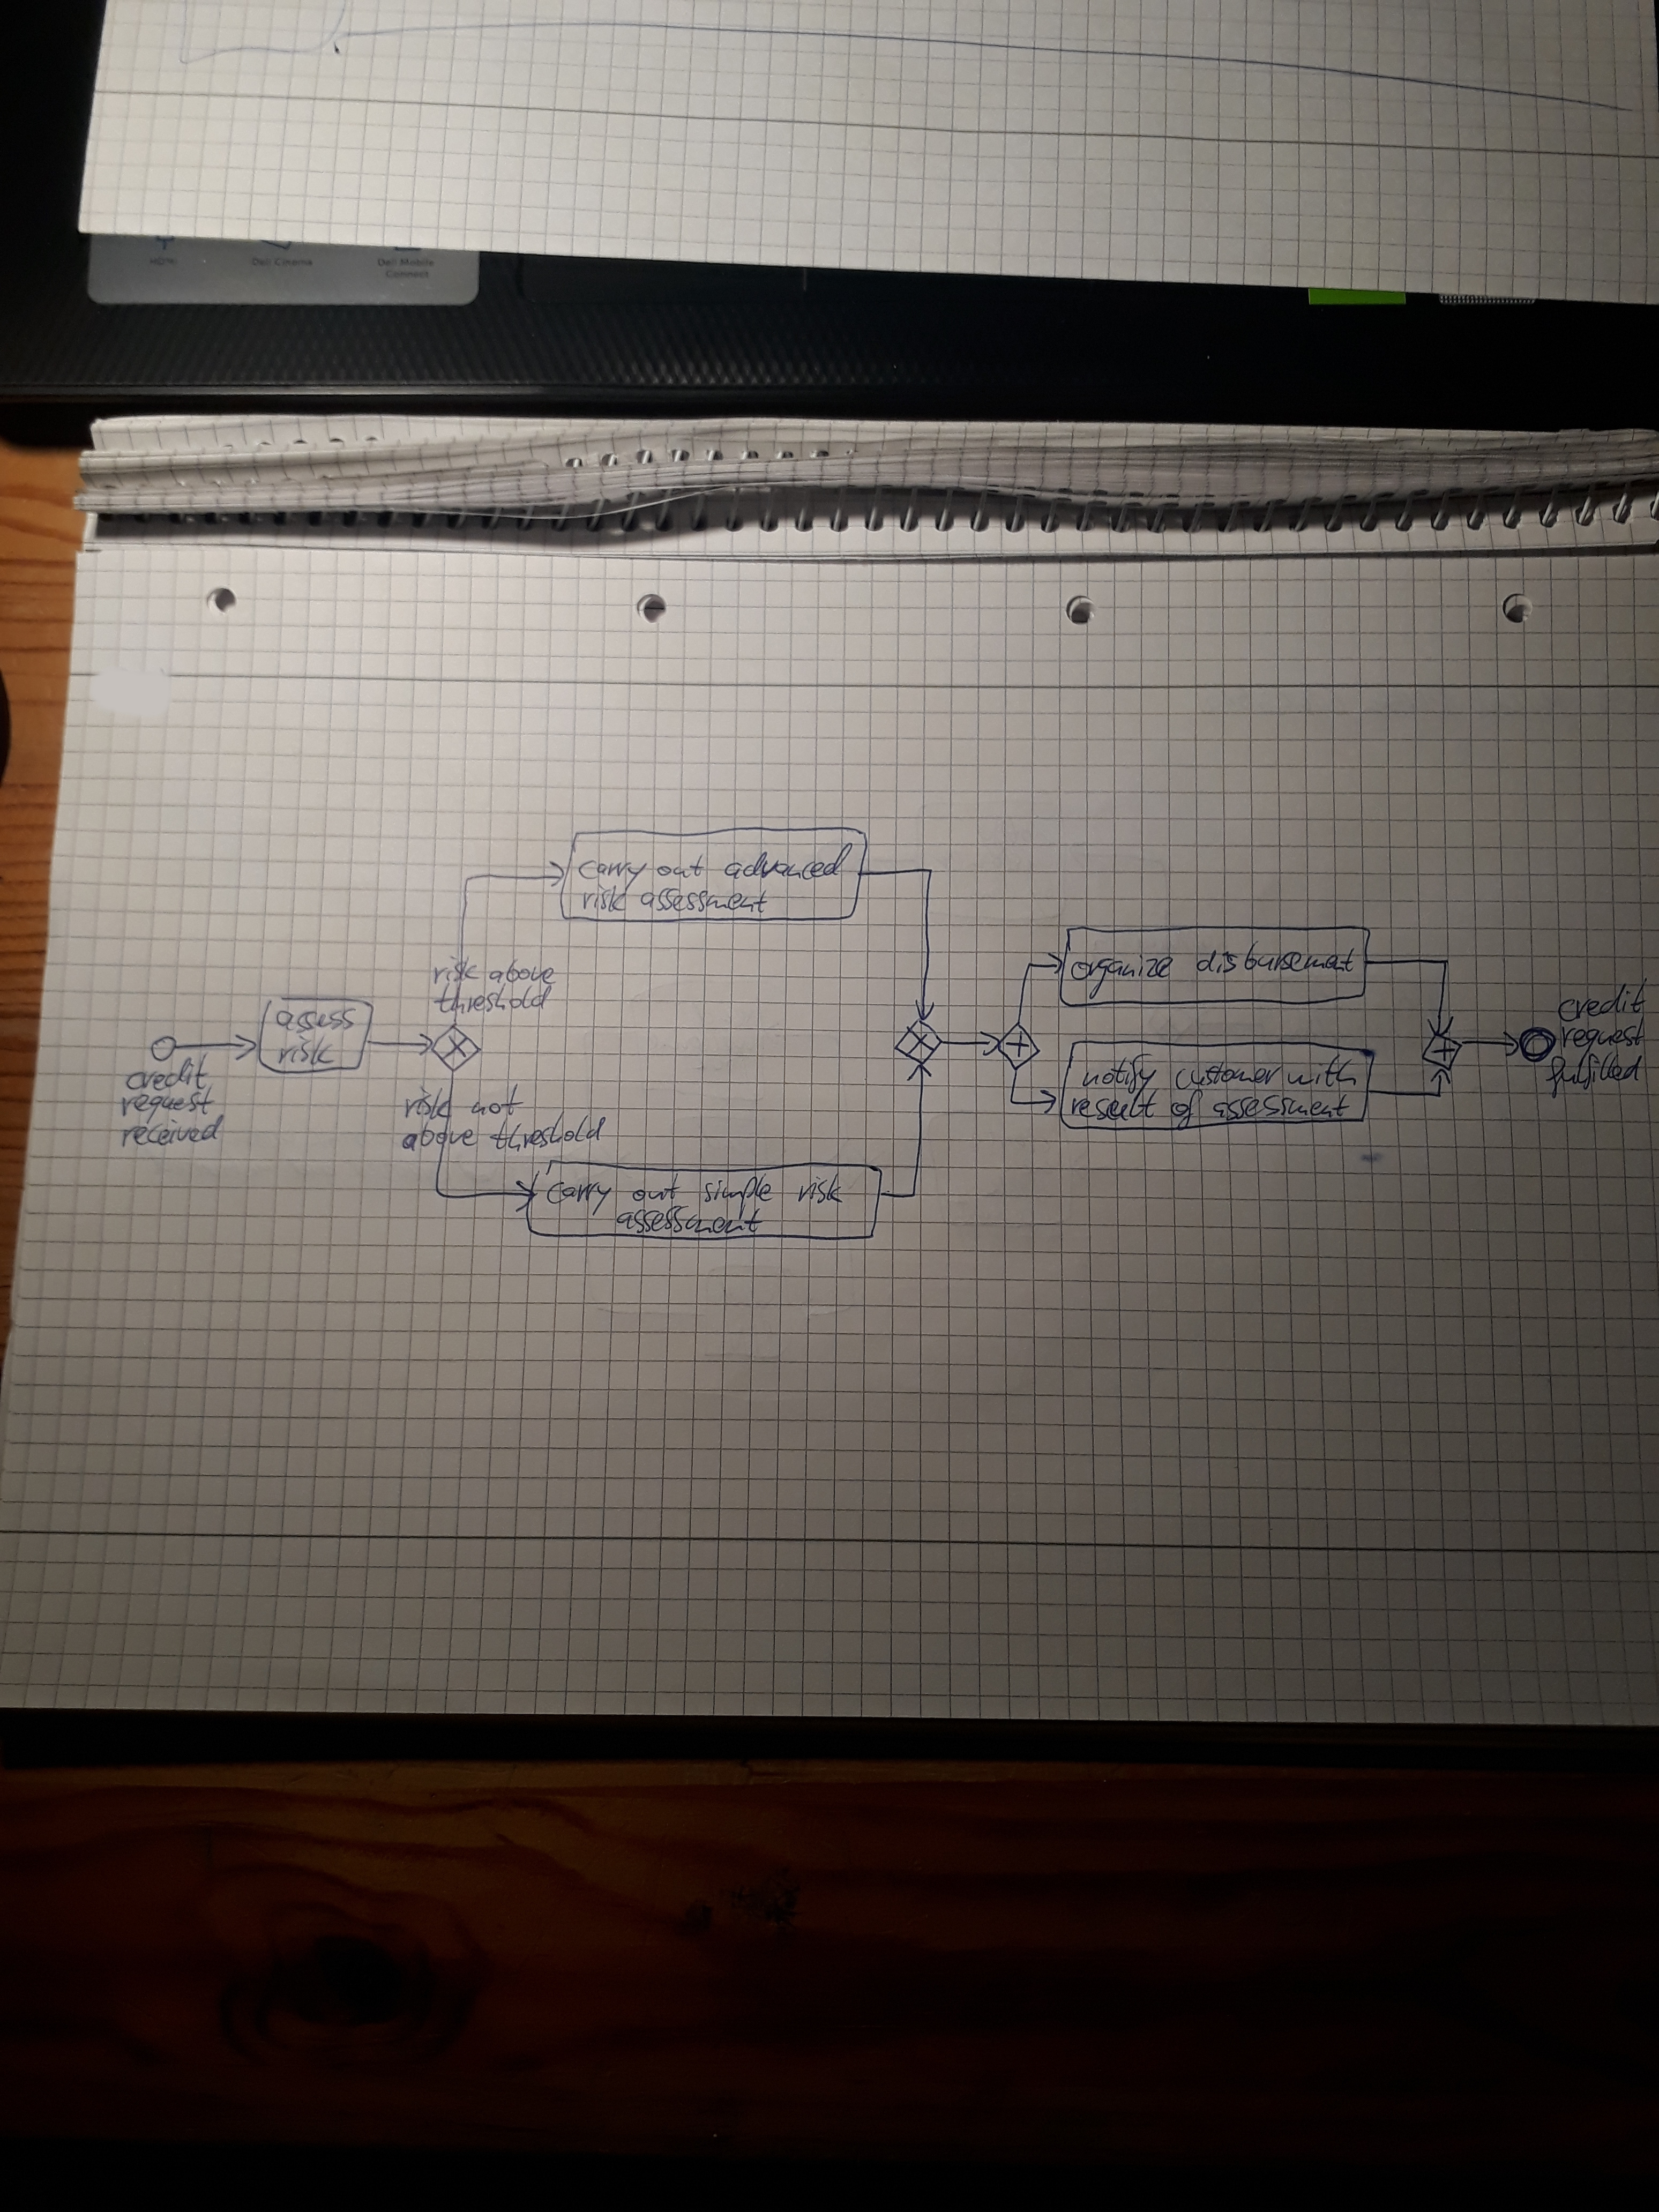above: (399, 1116, 481, 1153), (488, 956, 559, 988)
advanced: (721, 841, 856, 883)
assess: (274, 1005, 361, 1038)
assessment: (613, 1202, 767, 1237), (1211, 1092, 1352, 1123), (638, 885, 770, 918)
carry: (544, 1179, 615, 1217), (577, 859, 650, 895)
credit: (1554, 975, 1652, 1024), (124, 1050, 213, 1094)
customer: (1173, 1055, 1288, 1094)
disbursement: (1192, 939, 1358, 977)
fulfilled: (1542, 1050, 1645, 1103)
not: (467, 1082, 528, 1118)
notify: (1079, 1050, 1161, 1103)
of: (1168, 1089, 1206, 1132)
organize: (1068, 951, 1176, 1003)
out: (629, 1170, 683, 1204), (655, 852, 708, 880)
received: (118, 1111, 228, 1151)
request: (1558, 1014, 1649, 1069), (118, 1082, 218, 1125)
result: (1068, 1087, 1162, 1123)
risk: (275, 1033, 338, 1068), (795, 1170, 847, 1207), (403, 1085, 455, 1122), (429, 953, 483, 988), (580, 883, 631, 914)
simple: (701, 1172, 777, 1223)
threshold: (488, 1109, 608, 1155), (432, 979, 554, 1017)
with: (1284, 1052, 1359, 1090)
